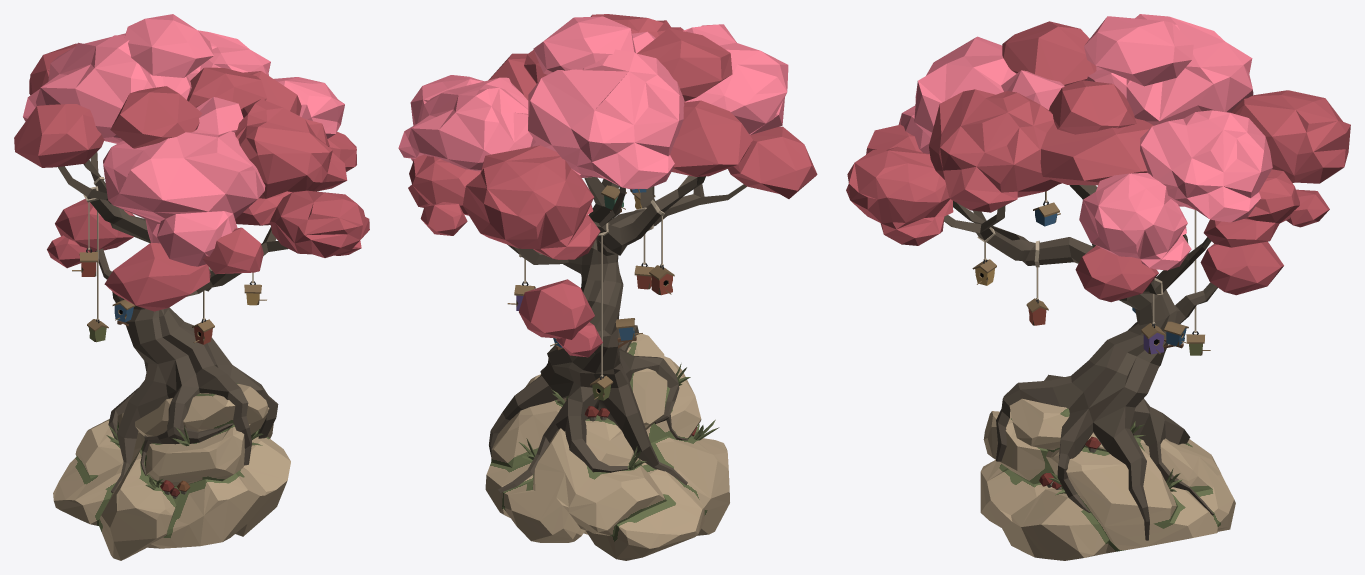
The model's file is SM_Env_Big_Tree_01.fbx.
3 views of the same model, side by side, from view 1: azimuth 30°, elevation 25°; view 2: azimuth 150°, elevation 25°; view 3: azimuth 270°, elevation 25° (orthographic). The views are drawn at different scales.
Visible parts, largest first — view 1: SM_Env_Big_Tree_01, SM_Env_Big_Tree_FairyHouses_01; view 2: SM_Env_Big_Tree_01, SM_Env_Big_Tree_FairyHouses_01; view 3: SM_Env_Big_Tree_01, SM_Env_Big_Tree_FairyHouses_01.
Part boxes in pixels (left/top/right/bottom): SM_Env_Big_Tree_01: left=14, top=14, right=369, bottom=560; SM_Env_Big_Tree_FairyHouses_01: left=72, top=177, right=266, bottom=344; SM_Env_Big_Tree_01: left=398, top=14, right=817, bottom=560; SM_Env_Big_Tree_FairyHouses_01: left=507, top=185, right=674, bottom=400; SM_Env_Big_Tree_01: left=846, top=14, right=1350, bottom=560; SM_Env_Big_Tree_FairyHouses_01: left=972, top=191, right=1210, bottom=355.
Bounding box in the file's own units: 1401 × 2038 × 1757.
